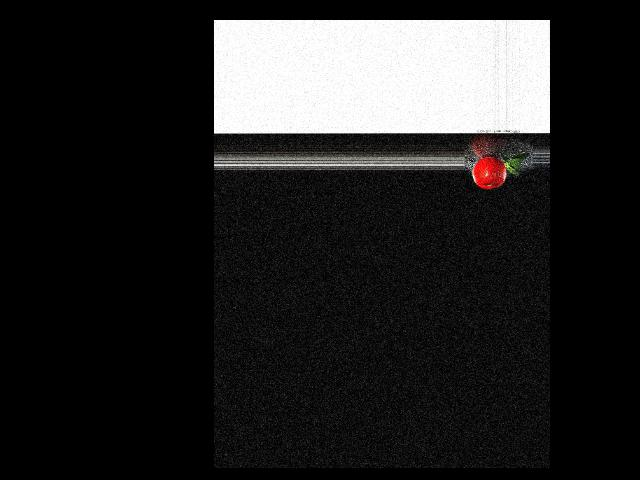tomato: (472, 157, 506, 189)
